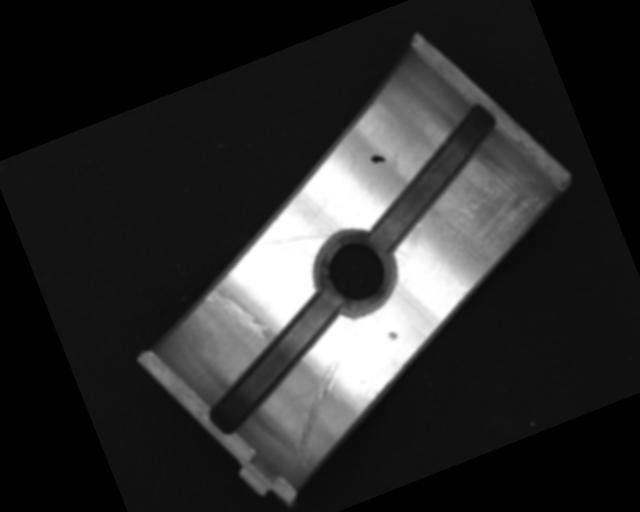blot: (368, 151, 387, 167)
bruise: (386, 329, 398, 341)
gap: (179, 288, 367, 438), (341, 99, 526, 251)
hole: (302, 217, 407, 324)
nick: (269, 358, 373, 471), (202, 274, 274, 358), (250, 215, 331, 265)
scratch: (421, 138, 573, 290)
